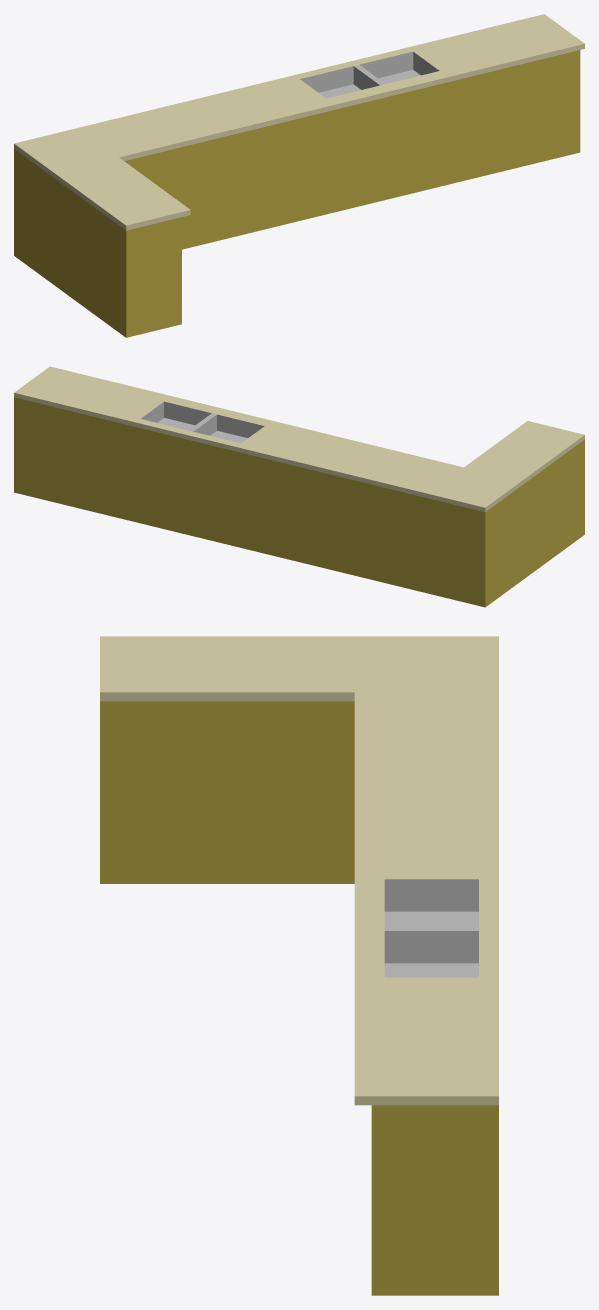
Rendered from MainCountertop.fbx.
The picture shows the model from 3 angles, top to bottom: view 1: azimuth 30°, elevation 25°; view 2: azimuth 150°, elevation 25°; view 3: azimuth 270°, elevation 25°; orthographic projection. The views are drawn at different scales.
Visible parts, largest first — view 1: Bottom_Counter; view 2: Bottom_Counter; view 3: Bottom_Counter.
Boxes of the visible parts, x1,y1,x2,y2 form: Bottom_Counter: (14,14,584,337); Bottom_Counter: (14,366,584,607); Bottom_Counter: (100,636,498,1295).
Bounding box in the file's own units: 514 × 104 × 188.
